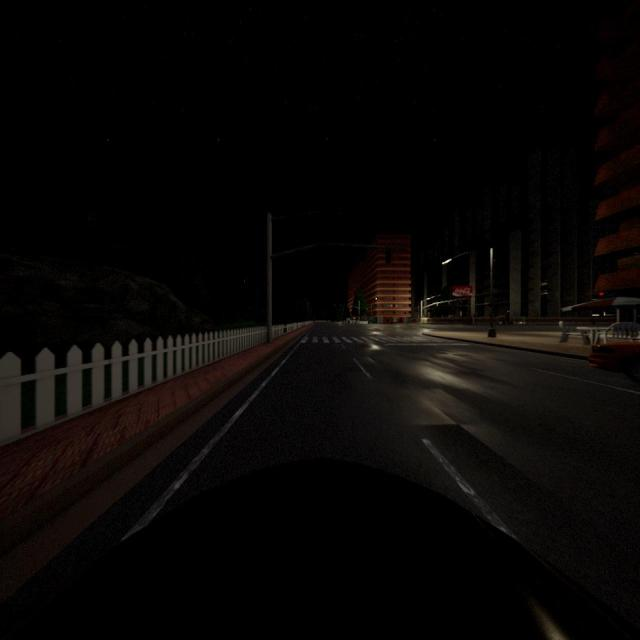Vehicle: (0, 455, 640, 640), (587, 336, 640, 386)
